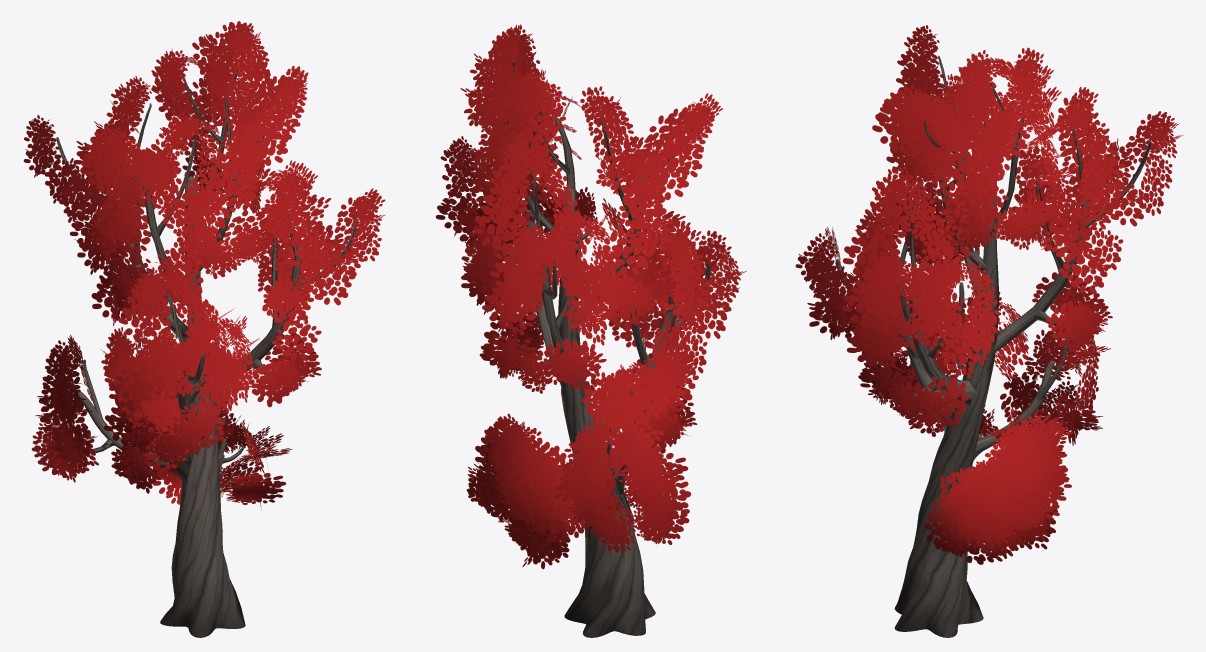
File: q-twisted-tree-7pdbpelkqr.glb
3 views of the same model, side by side, from view 1: azimuth 30°, elevation 25°; view 2: azimuth 150°, elevation 25°; view 3: azimuth 270°, elevation 25° (orthographic). The views are drawn at different scales.
Visible parts, largest first — view 1: TwistedTree_4; view 2: TwistedTree_4; view 3: TwistedTree_4.
Part boxes in pixels (x1=…): TwistedTree_4: x1=23, y1=21, x2=385, y2=637; TwistedTree_4: x1=436, y1=24, x2=746, y2=637; TwistedTree_4: x1=795, y1=25, x2=1182, y2=637.
Size of the model in its own units: 10.38 by 18.74 by 11.29.
2 materials, 2 textured.
